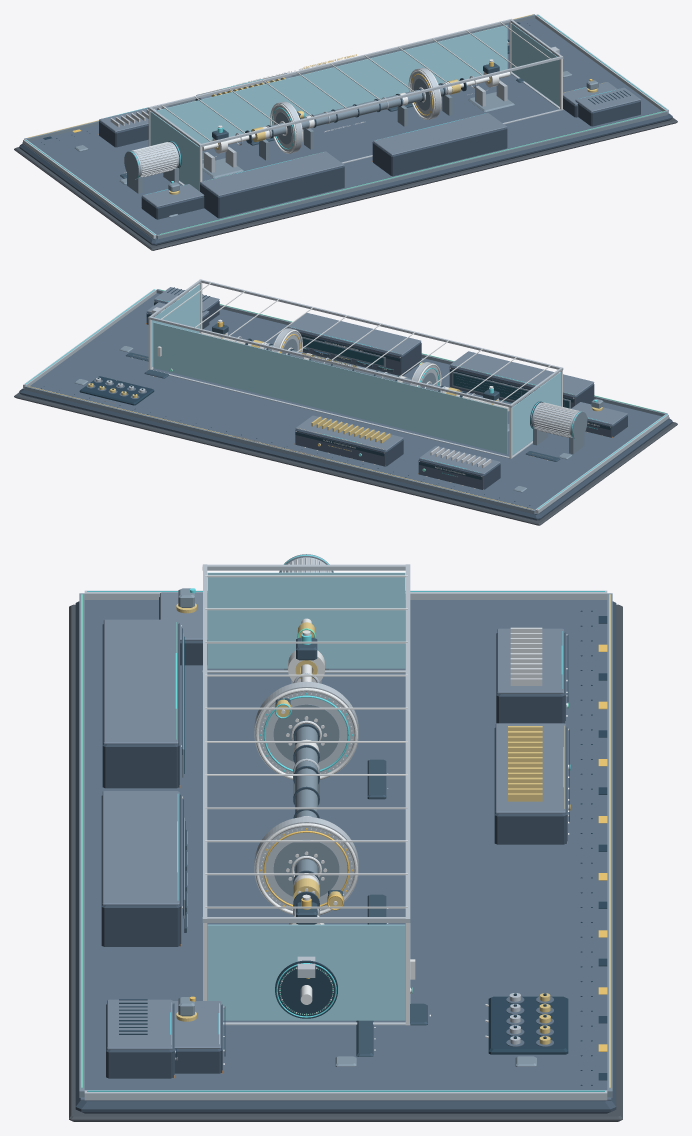
Rendered from Level53_Complete_ArtKit_Showcase.fbx.
3 renders of one model, top to bottom at view 1: azimuth 30°, elevation 25°; view 2: azimuth 150°, elevation 25°; view 3: azimuth 270°, elevation 25°, orthographic. The views are drawn at different scales.
Parts seen in each view (by area): view 1: Model::00_L53_IndustrialBase__L53_TWIN_PLANE_TITANIUM_FRAME_ (×8), Model::14_L53_SafetyEnclosure__L53_TRANSPARENT_BALANCING_GUA (×5), Model::12_L53_BalanceController__L53_COUPLED_BALANCE_CONTROL (×2), Model::13_L53_VectorMonitor__L53_INFLUENCE_MATRIX_MONITOR_Ch, Model::13_L53_VectorMonitor__L53_INFLUENCE_MATRIX_MONITOR_To, Model::02_L53_LongRotorShaft__L53_LONG_ROTOR_SteppedHollowRo, Model::16_L53_5VSupply__L53_REGULATED_POWER_Chassis, Model::16_L53_5VSupply__L53_REGULATED_POWER_Top_Lid, Model::01_L53_DCMotor__L53_5V_MOTOR_RibbedMotorCan, Model::07_L53_LeftVibrationSensor__L53_LEFT_VIB_MONITOR_Chas, Model::11_L53_MotorDriver__L53_ROTATION_MOTOR_DRIVER_Chassis, Model::07_L53_LeftVibrationSensor__L53_LEFT_VIB_MONITOR_Top_ (+8 smaller); view 2: Model::00_L53_IndustrialBase__L53_TWIN_PLANE_TITANIUM_FRAME_ (×8), Model::14_L53_SafetyEnclosure__L53_TRANSPARENT_BALANCING_GUA (×6), Model::12_L53_BalanceController__L53_COUPLED_BALANCE_CONTROL (×4), Model::13_L53_VectorMonitor__L53_INFLUENCE_MATRIX_MONITOR_To, Model::10_L53_BalanceDriver__L53_DUAL_PLANE_DRIVER_Top_Lid, Model::10_L53_BalanceDriver__L53_DUAL_PLANE_DRIVER_Front_Con, Model::15_L53_TrialWeightTray__L53_INFLUENCE_CALIBRATION_KIT, Model::01_L53_DCMotor__L53_5V_MOTOR_RibbedMotorCan, Model::13_L53_VectorMonitor__L53_INFLUENCE_MATRIX_MONITOR_Bl, Model::11_L53_MotorDriver__L53_ROTATION_MOTOR_DRIVER_Front_C, Model::11_L53_MotorDriver__L53_ROTATION_MOTOR_DRIVER_Top_Lid, Model::07_L53_LeftVibrationSensor__L53_LEFT_VIB_MONITOR_Top_ (+6 smaller); view 3: Model::00_L53_IndustrialBase__L53_TWIN_PLANE_TITANIUM_FRAME_ (×10), Model::14_L53_SafetyEnclosure__L53_TRANSPARENT_BALANCING_GUA (×6), Model::12_L53_BalanceController__L53_COUPLED_BALANCE_CONTROL (×2), Model::13_L53_VectorMonitor__L53_INFLUENCE_MATRIX_MONITOR_To, Model::10_L53_BalanceDriver__L53_DUAL_PLANE_DRIVER_Top_Lid, Model::13_L53_VectorMonitor__L53_INFLUENCE_MATRIX_MONITOR_Ch, Model::15_L53_TrialWeightTray__L53_INFLUENCE_CALIBRATION_KIT, Model::03_L53_CorrectionPlaneA__L53_PRECISION_PLANE_A_Massiv, Model::04_L53_CorrectionPlaneB__L53_PRECISION_PLANE_B_Massiv, Model::16_L53_5VSupply__L53_REGULATED_POWER_Top_Lid, Model::10_L53_BalanceDriver__L53_DUAL_PLANE_DRIVER_Chassis, Model::11_L53_MotorDriver__L53_ROTATION_MOTOR_DRIVER_Top_Lid (+11 smaller).
Boxes of the visible parts, x1,y1,x2,y2 form: Model::00_L53_IndustrialBase__L53_TWIN_PLANE_TITANIUM_FRAME_ (×8): [14, 14, 677, 250]; Model::14_L53_SafetyEnclosure__L53_TRANSPARENT_BALANCING_GUA (×5): [148, 19, 562, 190]; Model::12_L53_BalanceController__L53_COUPLED_BALANCE_CONTROL (×2): [373, 113, 507, 176]; Model::13_L53_VectorMonitor__L53_INFLUENCE_MATRIX_MONITOR_Ch: [200, 166, 344, 218]; Model::13_L53_VectorMonitor__L53_INFLUENCE_MATRIX_MONITOR_To: [200, 151, 344, 196]; Model::02_L53_LongRotorShaft__L53_LONG_ROTOR_SteppedHollowRo: [267, 83, 447, 137]; Model::16_L53_5VSupply__L53_REGULATED_POWER_Chassis: [575, 100, 640, 126]; Model::16_L53_5VSupply__L53_REGULATED_POWER_Top_Lid: [575, 87, 640, 111]; Model::01_L53_DCMotor__L53_5V_MOTOR_RibbedMotorCan: [132, 142, 179, 176]; Model::07_L53_LeftVibrationSensor__L53_LEFT_VIB_MONITOR_Chas: [142, 196, 204, 219]; Model::11_L53_MotorDriver__L53_ROTATION_MOTOR_DRIVER_Chassis: [99, 121, 148, 147]; Model::07_L53_LeftVibrationSensor__L53_LEFT_VIB_MONITOR_Top_: [142, 184, 204, 207]; Model::00_L53_IndustrialBase__L53_TWIN_PLANE_TITANIUM_FRAME_ (×8): [14, 289, 677, 525]; Model::14_L53_SafetyEnclosure__L53_TRANSPARENT_BALANCING_GUA (×6): [148, 279, 563, 458]; Model::12_L53_BalanceController__L53_COUPLED_BALANCE_CONTROL (×4): [287, 313, 421, 375]; Model::13_L53_VectorMonitor__L53_INFLUENCE_MATRIX_MONITOR_To: [450, 351, 594, 395]; Model::10_L53_BalanceDriver__L53_DUAL_PLANE_DRIVER_Top_Lid: [295, 415, 403, 450]; Model::10_L53_BalanceDriver__L53_DUAL_PLANE_DRIVER_Front_Con: [295, 430, 385, 466]; Model::15_L53_TrialWeightTray__L53_INFLUENCE_CALIBRATION_KIT: [79, 376, 154, 405]; Model::01_L53_DCMotor__L53_5V_MOTOR_RibbedMotorCan: [532, 402, 578, 437]; Model::13_L53_VectorMonitor__L53_INFLUENCE_MATRIX_MONITOR_Bl: [453, 373, 568, 408]; Model::11_L53_MotorDriver__L53_ROTATION_MOTOR_DRIVER_Front_C: [418, 460, 483, 489]; Model::11_L53_MotorDriver__L53_ROTATION_MOTOR_DRIVER_Top_Lid: [419, 446, 500, 474]; Model::07_L53_LeftVibrationSensor__L53_LEFT_VIB_MONITOR_Top_: [571, 402, 627, 425]; Model::00_L53_IndustrialBase__L53_TWIN_PLANE_TITANIUM_FRAME_ (×10): [69, 590, 622, 1121]; Model::14_L53_SafetyEnclosure__L53_TRANSPARENT_BALANCING_GUA (×6): [202, 564, 410, 1020]; Model::12_L53_BalanceController__L53_COUPLED_BALANCE_CONTROL (×2): [101, 791, 179, 946]; Model::13_L53_VectorMonitor__L53_INFLUENCE_MATRIX_MONITOR_To: [103, 619, 178, 744]; Model::10_L53_BalanceDriver__L53_DUAL_PLANE_DRIVER_Top_Lid: [495, 723, 565, 813]; Model::13_L53_VectorMonitor__L53_INFLUENCE_MATRIX_MONITOR_Ch: [102, 624, 178, 788]; Model::15_L53_TrialWeightTray__L53_INFLUENCE_CALIBRATION_KIT: [488, 996, 568, 1054]; Model::03_L53_CorrectionPlaneA__L53_PRECISION_PLANE_A_Massiv: [254, 681, 358, 779]; Model::04_L53_CorrectionPlaneB__L53_PRECISION_PLANE_B_Massiv: [254, 817, 358, 914]; Model::16_L53_5VSupply__L53_REGULATED_POWER_Top_Lid: [107, 999, 172, 1049]; Model::10_L53_BalanceDriver__L53_DUAL_PLANE_DRIVER_Chassis: [494, 727, 566, 844]; Model::11_L53_MotorDriver__L53_ROTATION_MOTOR_DRIVER_Top_Lid: [497, 628, 563, 693].
Bounding box in the file's own units: 54 × 6.34 × 24.6.
